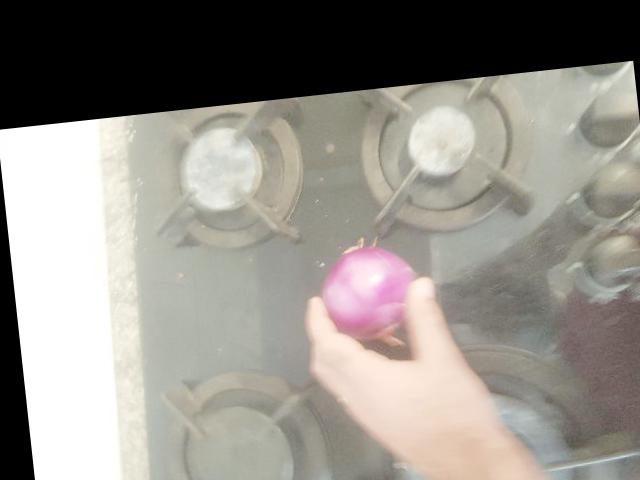onion: (166, 179, 260, 288)
